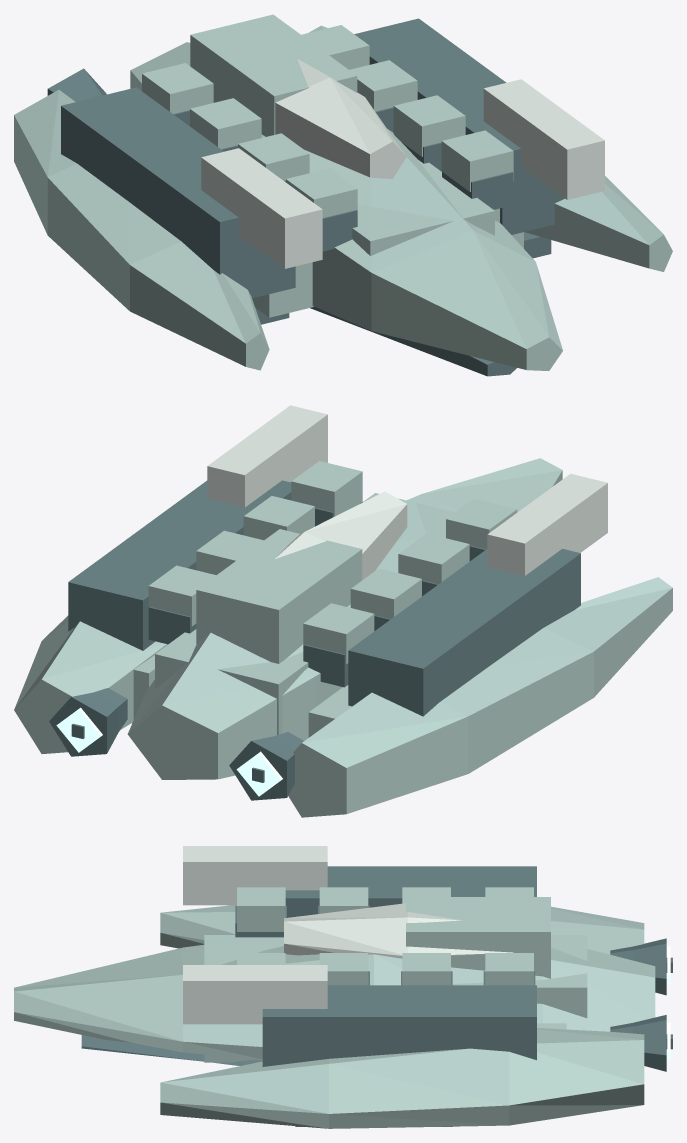
3 renders of one model, top to bottom at view 1: azimuth 30°, elevation 25°; view 2: azimuth 150°, elevation 25°; view 3: azimuth 270°, elevation 25°, orthographic. The views are drawn at different scales.
Bounding box in the file's own units: 18.19 × 6.73 × 25.47.
